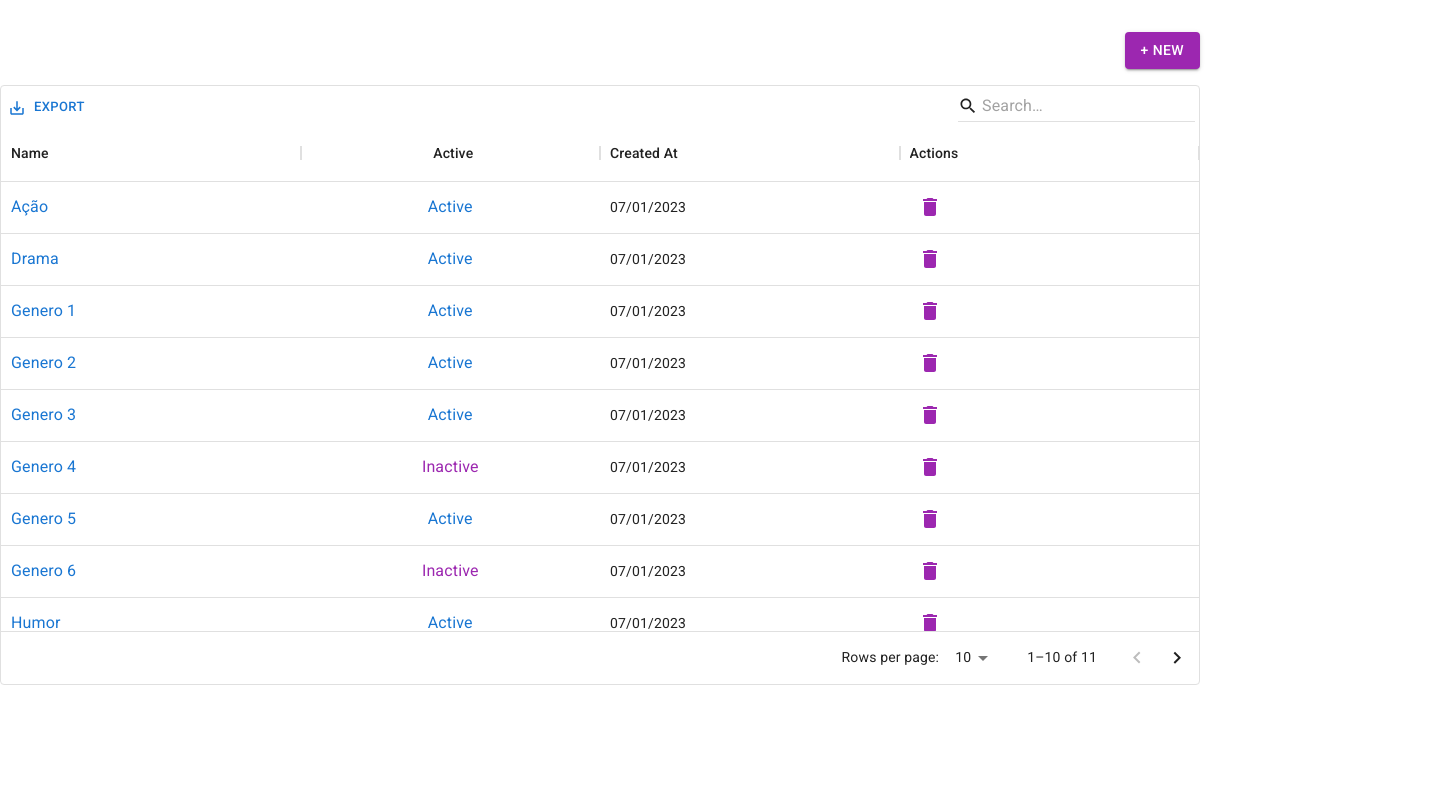
Test: List genre › should handle delete genre success
Expected: the text "Ação" is shown, x1=11 y1=195 x2=48 y2=219
Click the button with test id "delete-button" in the row of "Ação" at (930, 207), box x1=910 y1=187 x2=950 y2=227
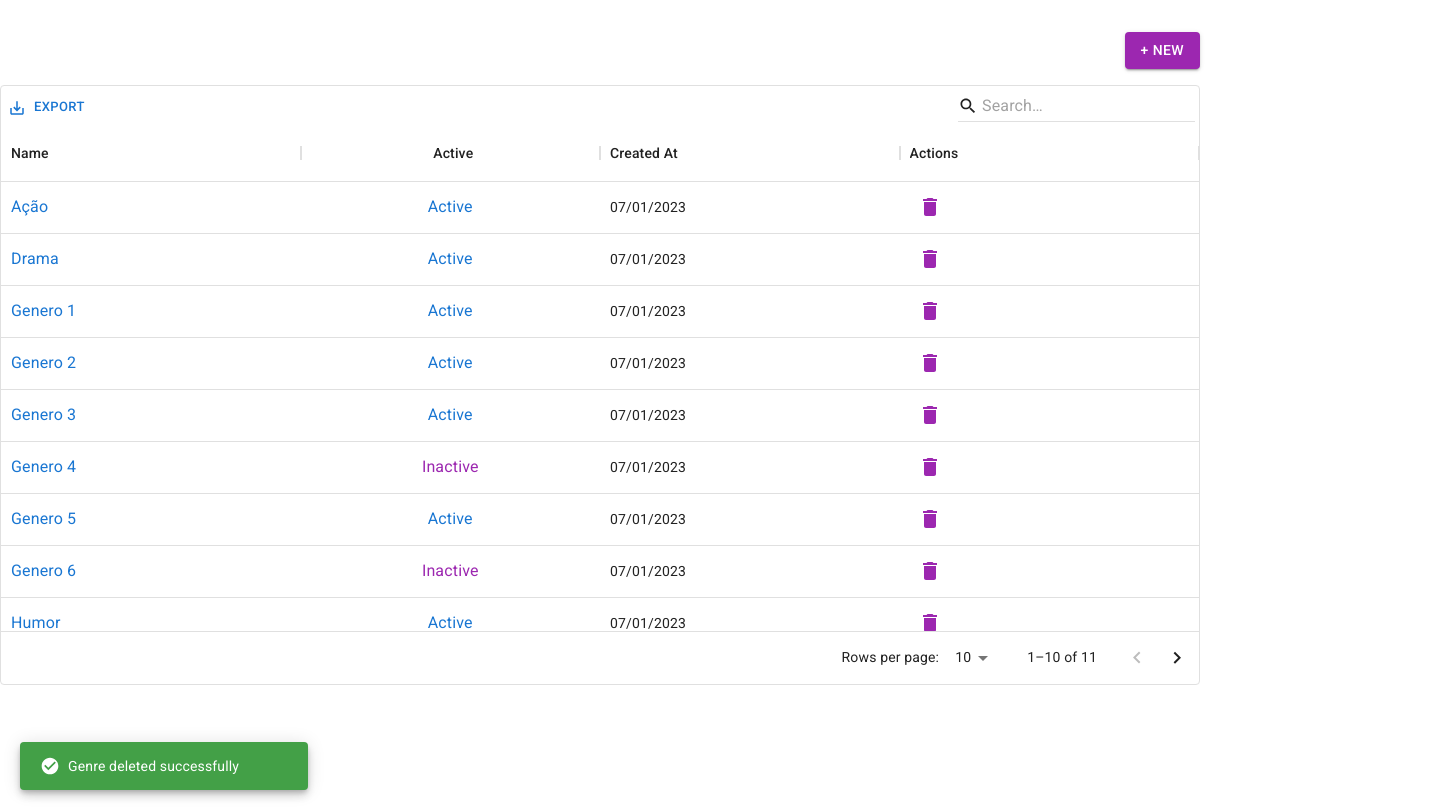
Result: the text "Genre deleted successfully" is shown at x1=40 y1=756 x2=239 y2=776
